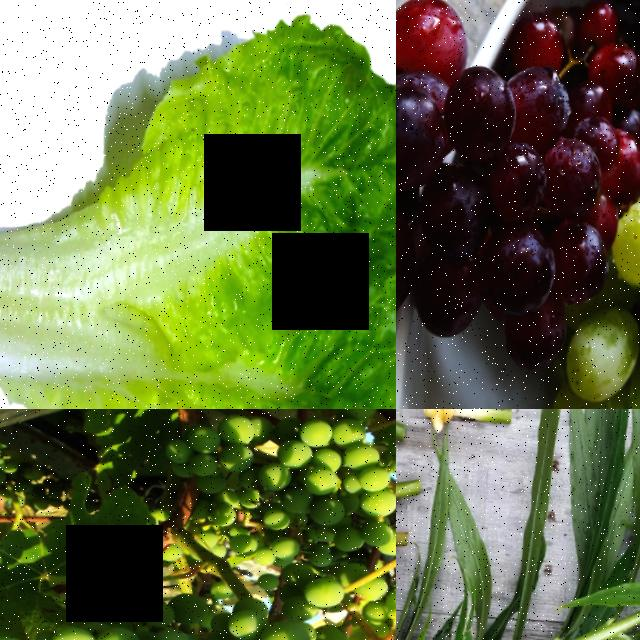grapes: (396, 0, 640, 362), (0, 541, 396, 640), (153, 409, 396, 547), (578, 0, 640, 409)
lettuce: (35, 0, 396, 409)
